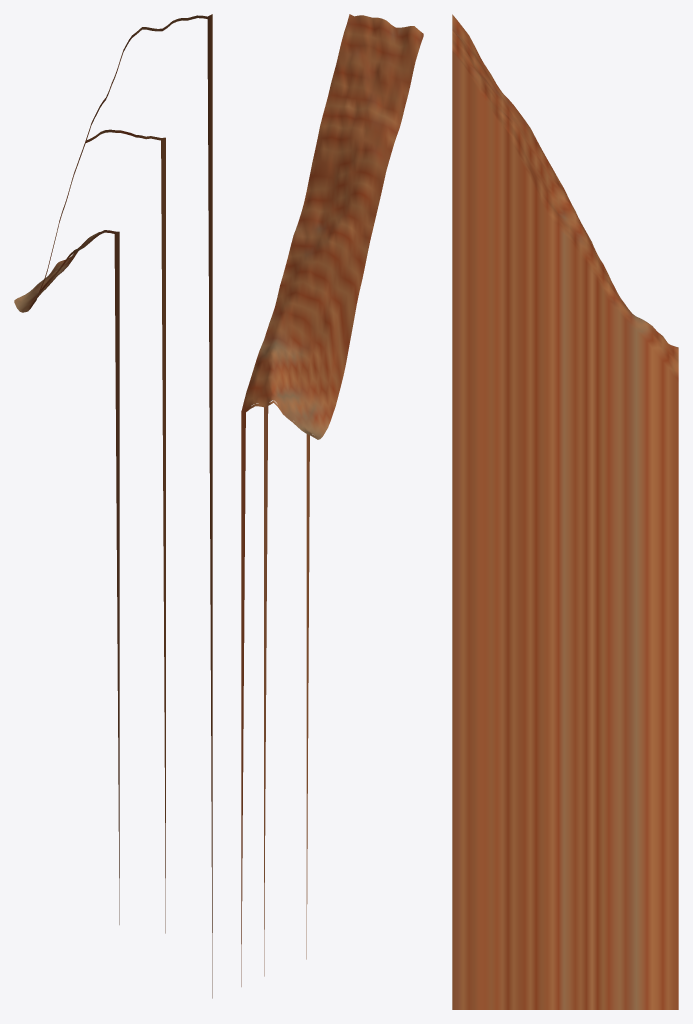
The model's file is terrain-172.glb.
The picture shows the model from 3 angles, left to right: view 1: azimuth 30°, elevation 25°; view 2: azimuth 150°, elevation 25°; view 3: azimuth 270°, elevation 25°; orthographic projection. The views are drawn at different scales.
Visible parts, largest first — view 1: terrain-172; view 2: terrain-172; view 3: terrain-172.
Part boxes in pixels (<box>): terrain-172: <box>14,14,212,998</box>; terrain-172: <box>241,14,423,986</box>; terrain-172: <box>452,14,678,1009</box>.
Size of the model in its own units: 128 by 1520 by 324.
